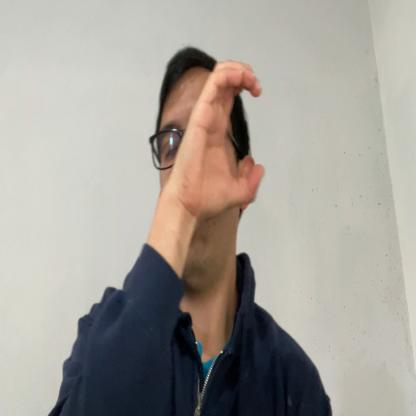C: (188, 60, 266, 211)
